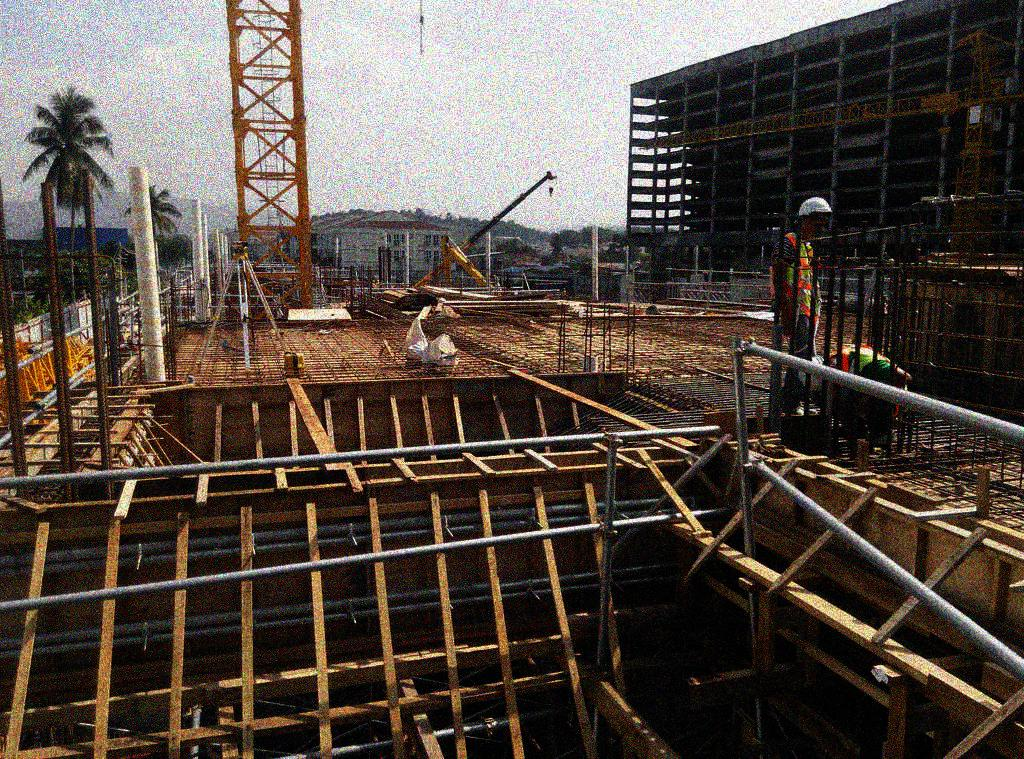helmet: (794, 192, 832, 239)
